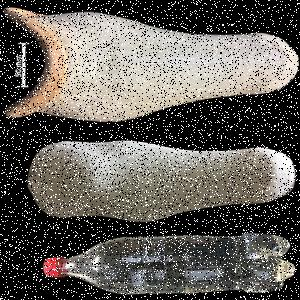Plastic-bottle: (43, 232, 297, 295)
